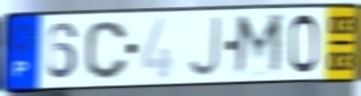0: (288, 12, 319, 76)
4: (140, 16, 176, 81)
6: (47, 21, 80, 82)
C: (83, 19, 131, 82)
J: (185, 15, 222, 79)
M: (231, 12, 285, 79)
